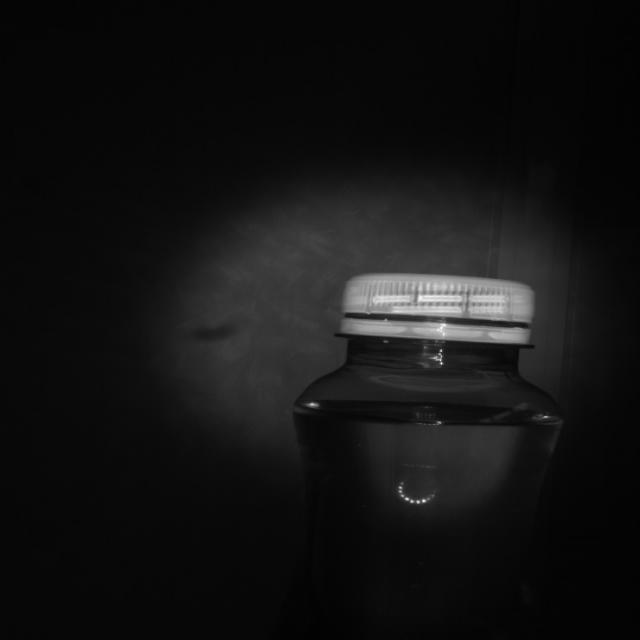Not Good: (342, 274, 534, 346)
